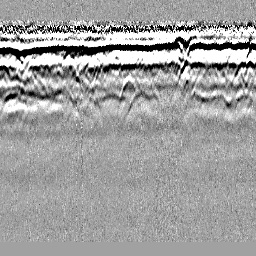cavity: (116, 74, 140, 115)
